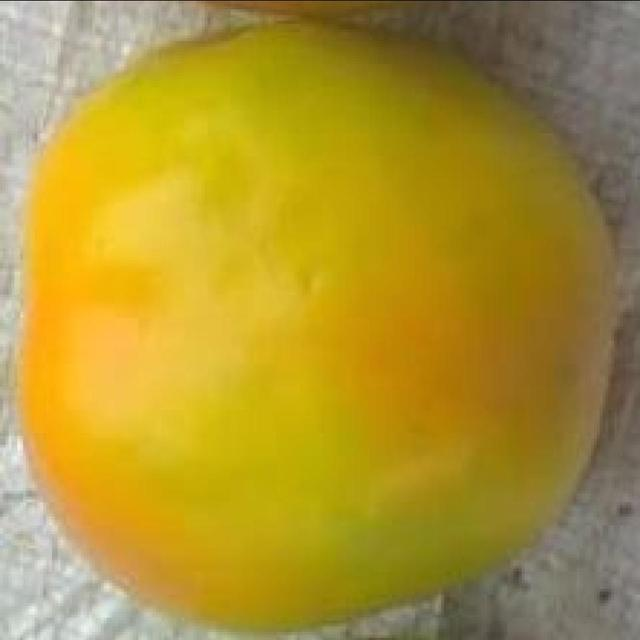Spotted wilt Virus Fruit: (10, 13, 413, 423)
